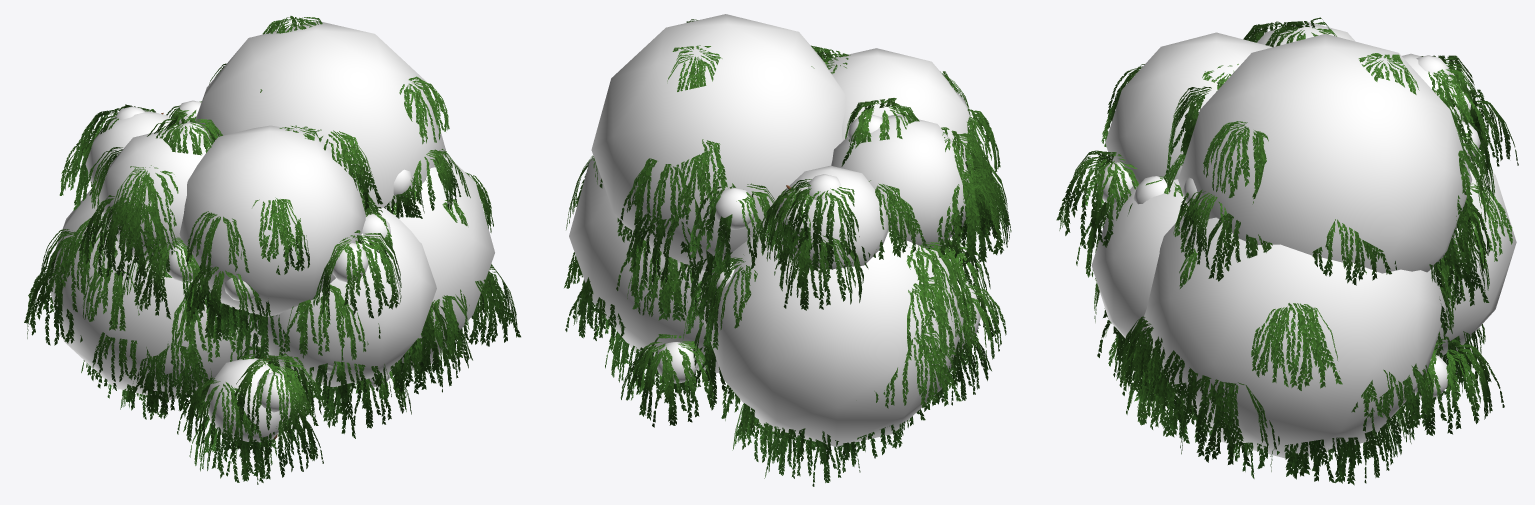
File: grown_willow1.gltf
3 views of the same model, side by side, from view 1: azimuth 30°, elevation 25°; view 2: azimuth 150°, elevation 25°; view 3: azimuth 270°, elevation 25° (orthographic). The views are drawn at different scales.
Parts seen in each view (by area): view 1: grown_willow1_shadow_LOD0, grown_willow1_leaves_LOD0; view 2: grown_willow1_shadow_LOD0, grown_willow1_leaves_LOD0; view 3: grown_willow1_shadow_LOD0, grown_willow1_leaves_LOD0.
Part boxes in pixels (<box>): grown_willow1_shadow_LOD0: <box>47,21,494,444</box>; grown_willow1_leaves_LOD0: <box>24,16,520,484</box>; grown_willow1_shadow_LOD0: <box>569,14,980,446</box>; grown_willow1_leaves_LOD0: <box>564,19,1011,486</box>; grown_willow1_shadow_LOD0: <box>1091,22,1516,458</box>; grown_willow1_leaves_LOD0: <box>1056,17,1518,485</box>.
Size of what is drawn, in the model's own units: 12.21 by 10.34 by 10.38.
Materials: 3 (2 with a texture image).
